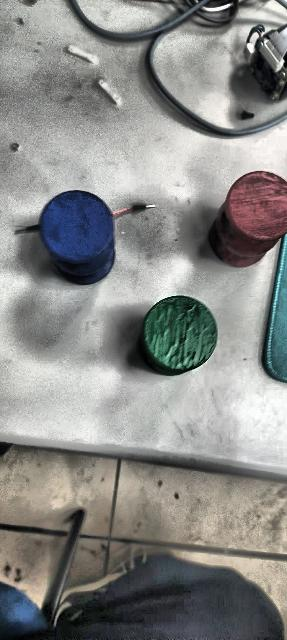blue: (38, 190, 116, 284)
green: (140, 294, 218, 376)
red: (211, 167, 287, 281)
